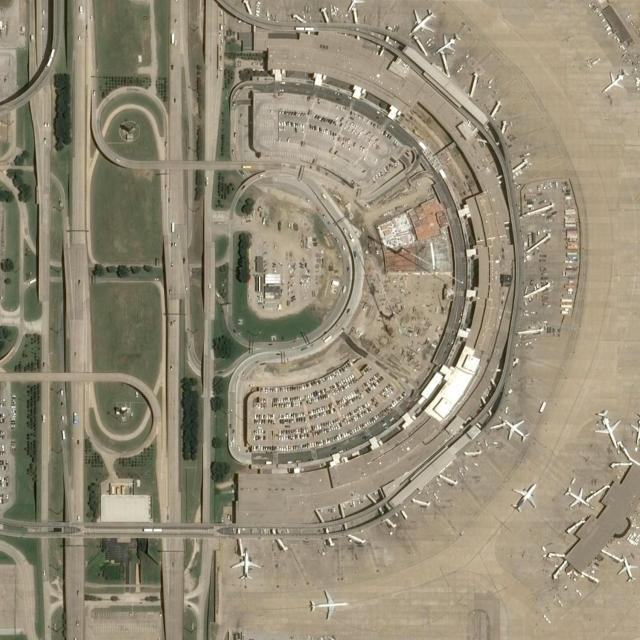Aircraft: (310, 590, 347, 620), (594, 409, 621, 445), (230, 551, 262, 580), (502, 415, 529, 443), (511, 482, 537, 511), (601, 69, 630, 95), (409, 8, 435, 35), (616, 555, 638, 582), (566, 486, 590, 508), (436, 33, 460, 54), (630, 414, 640, 444), (346, 0, 365, 14)
